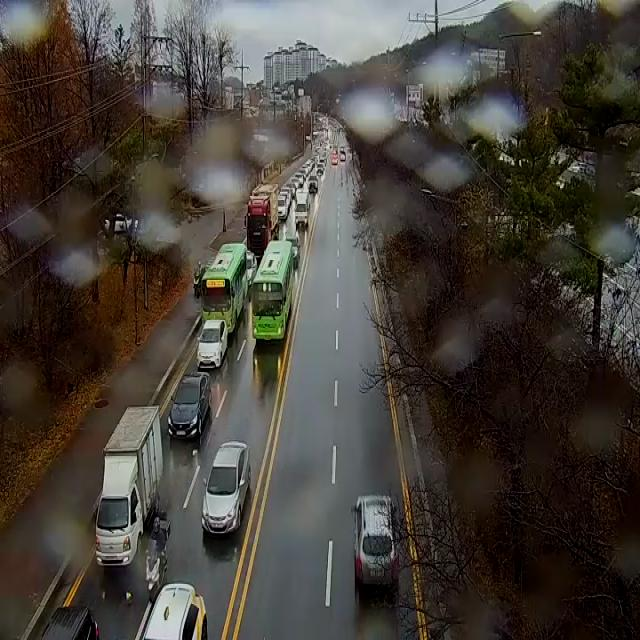Bus: (252, 240, 294, 340), (202, 242, 247, 334)
Car: (95, 406, 163, 566), (201, 443, 251, 535), (351, 496, 399, 585), (142, 584, 207, 640), (168, 372, 212, 440), (41, 607, 100, 640), (197, 320, 227, 369), (105, 214, 138, 232), (295, 188, 309, 222), (286, 236, 300, 262), (247, 250, 257, 286), (278, 198, 288, 220), (280, 191, 290, 210), (282, 187, 292, 206), (308, 175, 318, 191), (286, 182, 295, 198), (295, 174, 303, 186), (316, 164, 324, 175), (292, 178, 298, 188), (299, 170, 305, 180), (340, 153, 346, 161), (332, 158, 338, 165), (302, 166, 307, 174)
Truck: (244, 184, 279, 258)
